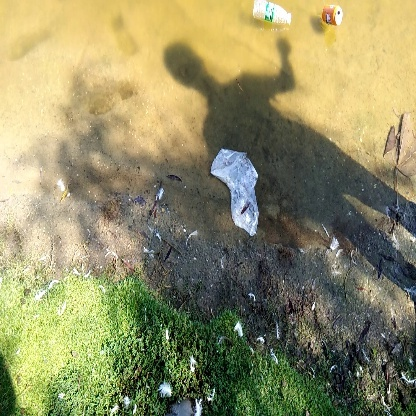bottle: (246, 1, 296, 35), (316, 2, 351, 28)
plastic-bag: (211, 145, 272, 240)
